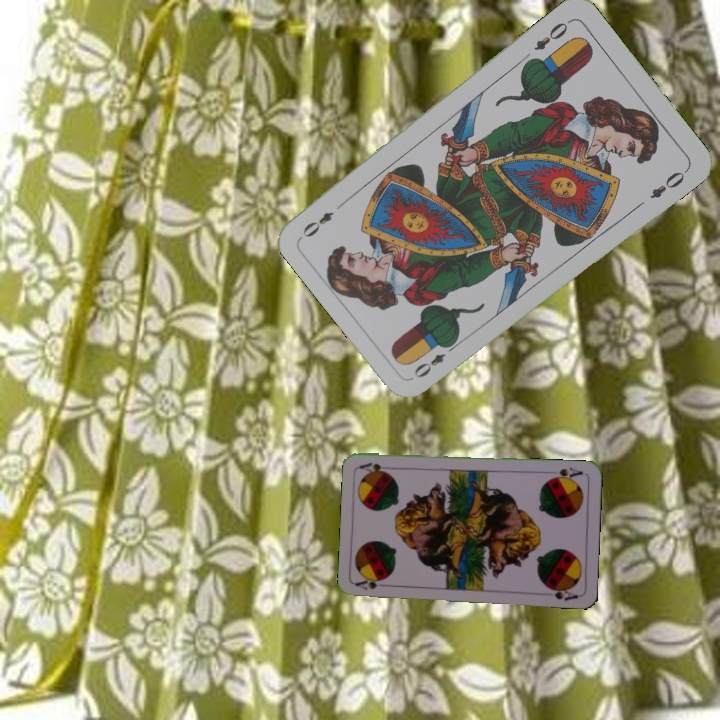EO: (409, 338, 460, 381), (530, 15, 574, 54)
SA: (545, 464, 585, 483), (352, 575, 393, 593)
